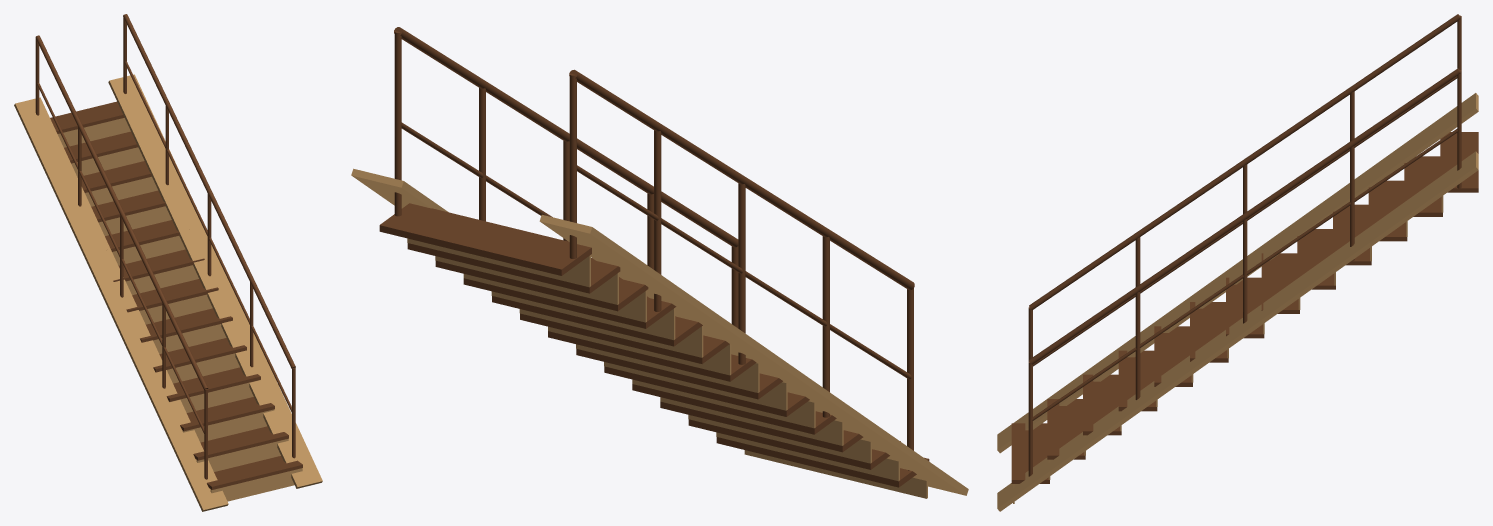
Rendered from circulation.stair.timber_rise_2600.glb.
3 renders of one model, left to right at view 1: azimuth 30°, elevation 25°; view 2: azimuth 150°, elevation 25°; view 3: azimuth 270°, elevation 25°, orthographic. The views are drawn at different scales.
Visible parts, largest first — view 1: flight__softwood, flight__hardwood, balustrade__hardwood; view 2: flight__softwood, flight__hardwood, balustrade__hardwood; view 3: flight__hardwood, flight__softwood, balustrade__hardwood.
Boxes of the visible parts, left/top/right/bottom form: flight__softwood: left=14, top=74, right=322, bottom=511; flight__hardwood: left=50, top=101, right=302, bottom=489; balustrade__hardwood: left=35, top=14, right=295, bottom=479; flight__softwood: left=351, top=168, right=968, bottom=498; flight__hardwood: left=379, top=203, right=929, bottom=487; balustrade__hardwood: left=394, top=27, right=914, bottom=470; flight__hardwood: left=1011, top=132, right=1478, bottom=483; flight__softwood: left=997, top=93, right=1478, bottom=511; balustrade__hardwood: left=1028, top=14, right=1461, bottom=476.
Size of the model in its own units: 1.23 by 3.35 by 3.37.
